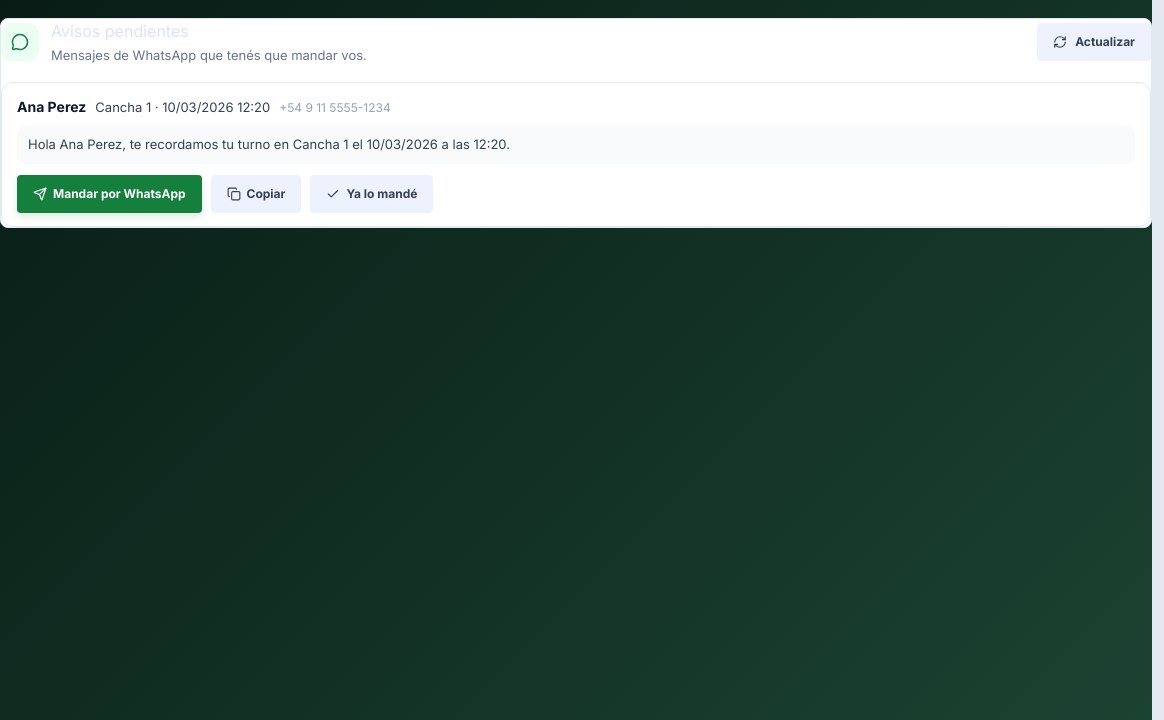
it: PendingAlertsPanel (#34) › mantiene el aviso y avisa si la confirmación falla
The width and height of the screenshot is (1164, 720).
Click the button "Ya lo mandé": x=372, y=194 [310,174,433,212]
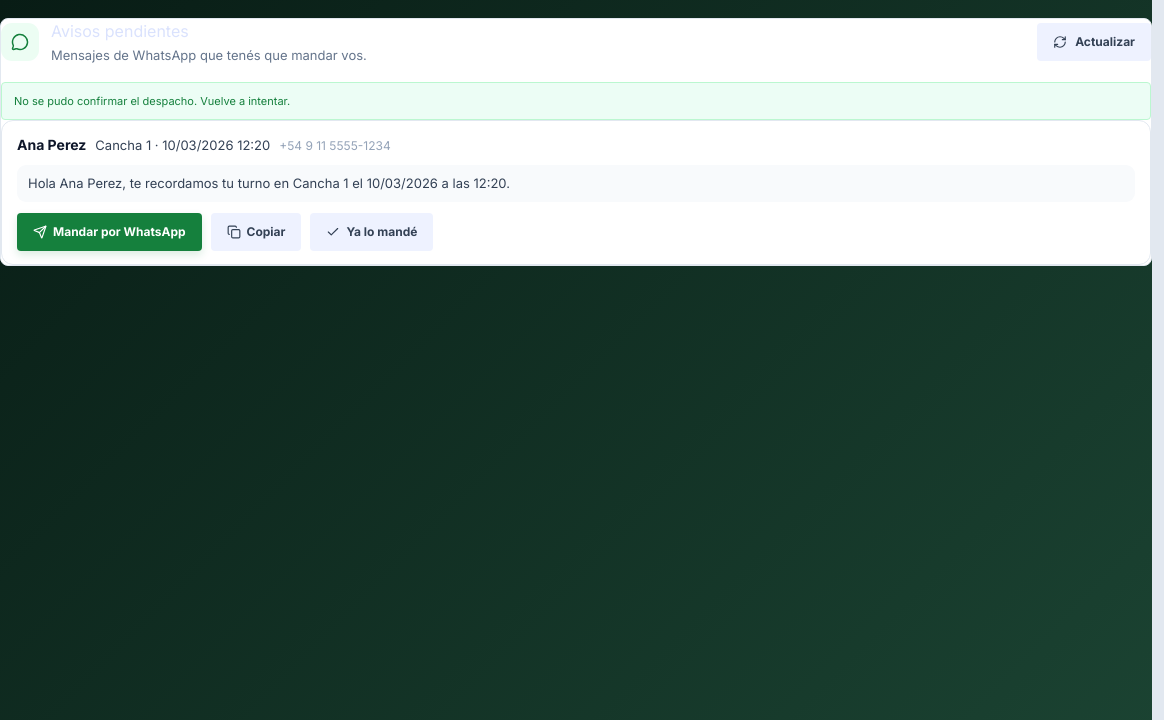
Check: the text "Ana Perez" is shown, box [17,134,86,155]
Check: the message shows "No se pudo confirmar el despacho", box [14,94,290,108]
